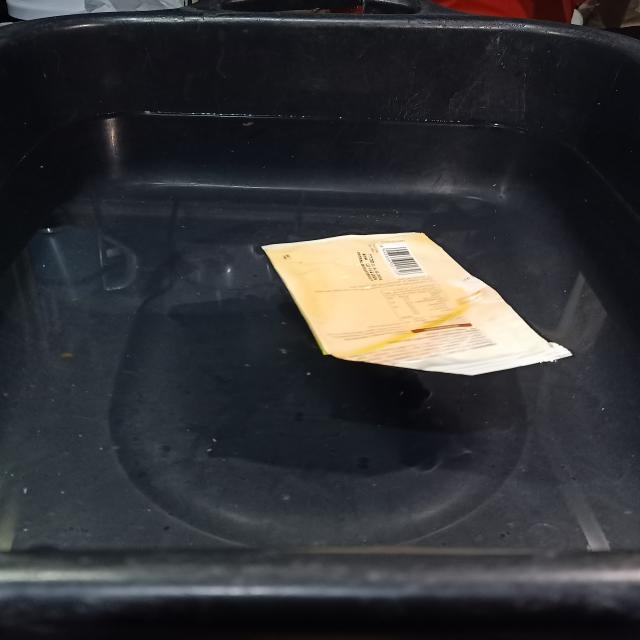Plastic Wrapper: (263, 232, 571, 375)
